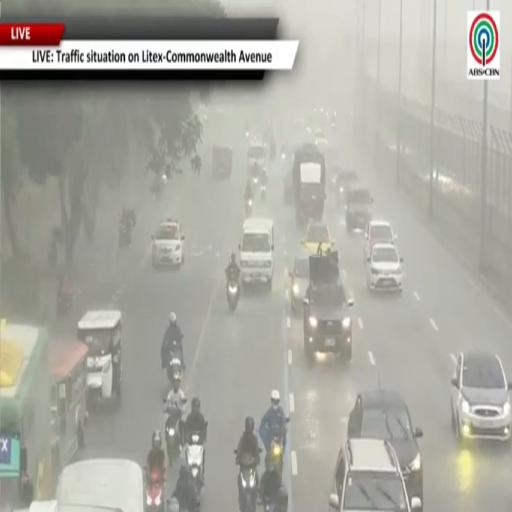bus: (0, 320, 52, 509)
car: (348, 390, 423, 500), (329, 439, 422, 511), (451, 349, 511, 443), (303, 251, 353, 361), (366, 244, 403, 293), (152, 219, 184, 266), (364, 219, 396, 262), (346, 186, 373, 232), (289, 255, 309, 312), (332, 165, 357, 205), (301, 222, 333, 253), (283, 168, 294, 204), (314, 129, 328, 148)
jeepney: (50, 341, 88, 476), (56, 459, 145, 511), (78, 310, 122, 410)
motorcycle: (185, 432, 205, 499), (239, 454, 258, 511), (164, 408, 182, 465), (266, 426, 285, 476), (146, 471, 164, 511), (268, 436, 283, 476), (167, 350, 182, 383), (57, 288, 73, 315), (227, 277, 239, 312), (119, 221, 133, 247), (246, 199, 253, 216), (261, 184, 266, 201), (252, 175, 258, 185)
truck: (293, 143, 326, 225)
